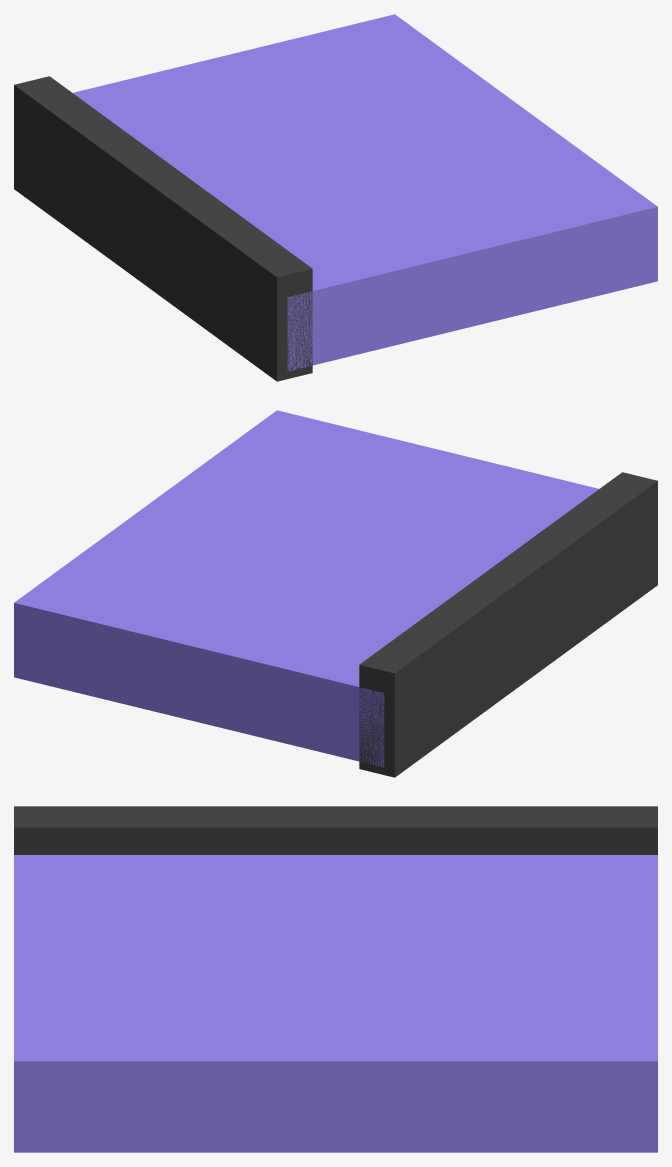
The picture shows the model from 3 angles, top to bottom: view 1: azimuth 30°, elevation 25°; view 2: azimuth 150°, elevation 25°; view 3: azimuth 270°, elevation 25°; orthographic projection. The views are drawn at different scales.
Visible parts, largest first — view 1: Folder, Spine; view 2: Folder, Spine; view 3: Folder, Spine.
Part boxes in pixels (bbox=[...]): Folder: bbox=[73, 14, 657, 371]; Spine: bbox=[14, 76, 312, 381]; Folder: bbox=[14, 410, 598, 767]; Spine: bbox=[359, 472, 657, 777]; Folder: bbox=[14, 855, 657, 1152]; Spine: bbox=[14, 806, 657, 854].
Size of the model in its own units: 26.75 by 7 by 32.
